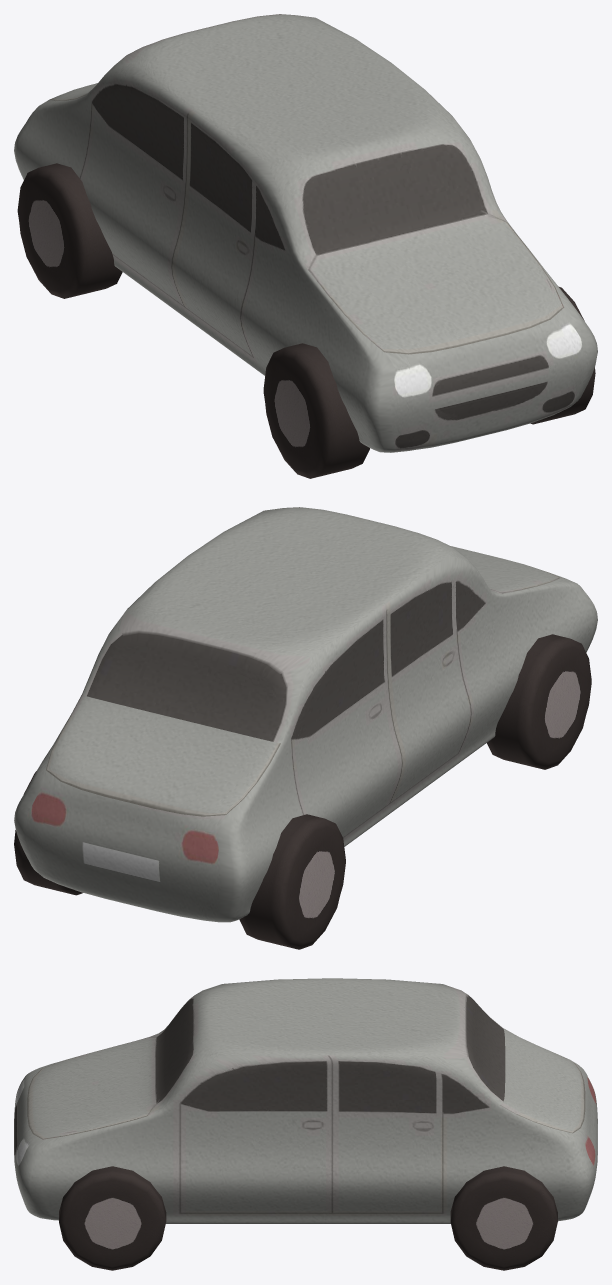
Rendered from car_2.fbx.
3 views of the same model, one above another, from view 1: azimuth 30°, elevation 25°; view 2: azimuth 150°, elevation 25°; view 3: azimuth 270°, elevation 25° (orthographic). The views are drawn at different scales.
Parts seen in each view (by area): view 1: pCube46, pCylinder42, pCylinder41, pCylinder39; view 2: pCube46, pCylinder41, pCylinder42, pCylinder40; view 3: pCube46, pCylinder39, pCylinder40.
Part boxes in pixels (left/top/right/bottom): pCube46: left=14, top=14, right=597, bottom=452; pCylinder42: left=263, top=343, right=369, bottom=478; pCylinder41: left=17, top=163, right=122, bottom=298; pCylinder39: left=530, top=286, right=595, bottom=424; pCube46: left=14, top=507, right=597, bottom=922; pCylinder41: left=239, top=814, right=345, bottom=949; pCylinder42: left=487, top=634, right=591, bottom=769; pCylinder40: left=14, top=771, right=82, bottom=895; pCube46: left=14, top=978, right=597, bottom=1223; pCylinder39: left=59, top=1166, right=166, bottom=1270; pCylinder40: left=450, top=1166, right=557, bottom=1270.
Bounding box in the file's own units: 92.69 × 83.16 × 215.
2 materials, 2 textured.
